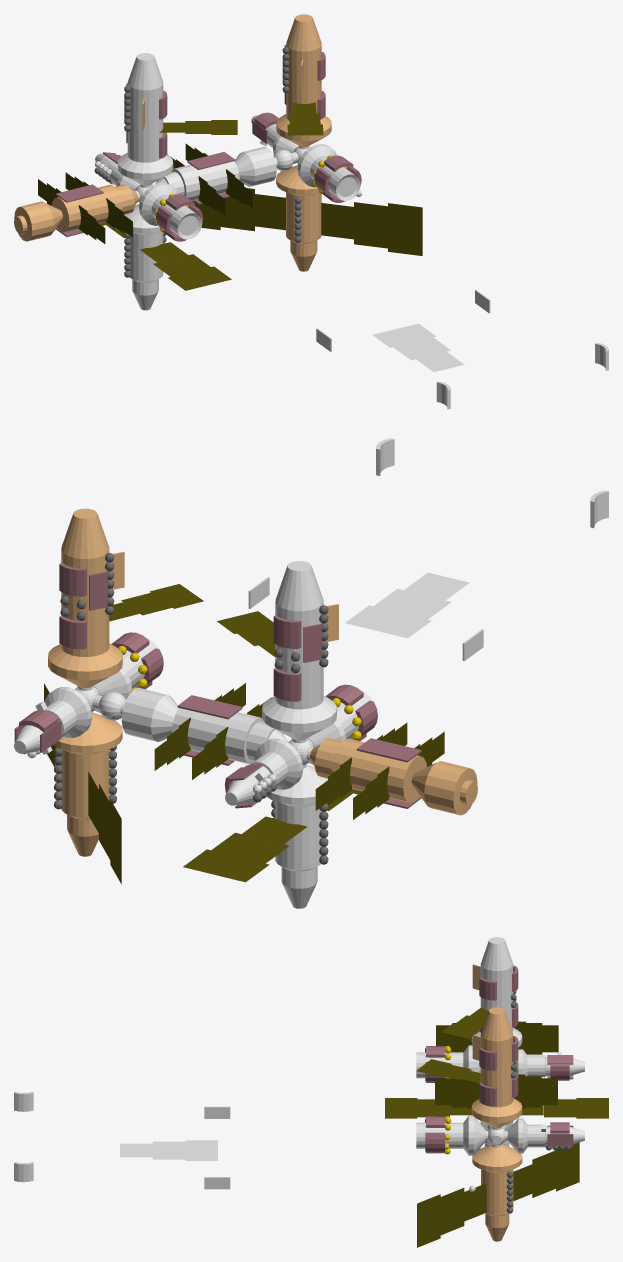
File: spacestationlevel7 - Copia.fbx
3 views of the same model, one above another, from view 1: azimuth 30°, elevation 25°; view 2: azimuth 150°, elevation 25°; view 3: azimuth 270°, elevation 25° (orthographic). The views are drawn at different scales.
Parts seen in each view (by area): view 1: Pedaço da estação básico, Painel solar.010, Pedaço da estação básico.001, Modulo principal.001, Modulo principal, Pedaço da estação básico.007, Painel solar.009, Pedaço da estação básico.2, Painel solar, Painel solar.005, Pedaço da estação básico.005, Pedaço da estação básico.4 (+10 smaller); view 2: Modulo principal.001, Pedaço da estação básico, Pedaço da estação básico.001, Modulo principal, Pedaço da estação básico.007, Pedaço da estação básico.2, Painel solar, Painel solar.003, Pedaço da estação básico.3, Pedaço da estação básico.006, Painel solar.009, Painel solar.008 (+16 smaller); view 3: Pedaço da estação básico.001, Pedaço da estação básico.007, Painel solar.010, Painel solar.009, Pedaço da estação básico, Painel solar, Painel solar.004, Pedaço da estação básico.005, Painel solar.003, Painel solar.005, Pedaço da estação básico.006, Painel solar.006 (+8 smaller).
Boxes of the visible parts, x1,y1,x2,y2 form: Pedaço da estação básico: [118, 53, 173, 185]; Painel solar.010: [321, 202, 422, 255]; Pedaço da estação básico.001: [276, 14, 331, 146]; Modulo principal.001: [14, 184, 138, 241]; Modulo principal: [155, 146, 276, 200]; Pedaço da estação básico.007: [276, 165, 321, 271]; Painel solar.009: [192, 188, 285, 231]; Pedaço da estação básico.2: [124, 204, 163, 310]; Painel solar: [372, 323, 464, 372]; Painel solar.005: [140, 242, 231, 290]; Pedaço da estação básico.005: [297, 144, 360, 200]; Pedaço da estação básico.4: [139, 182, 202, 239]; Modulo principal.001: [310, 738, 477, 815]; Pedaço da estação básico: [262, 561, 336, 740]; Pedaço da estação básico.001: [48, 508, 122, 687]; Modulo principal: [121, 687, 287, 764]; Pedaço da estação básico.007: [53, 712, 122, 856]; Pedaço da estação básico.2: [266, 765, 327, 908]; Painel solar: [345, 572, 469, 638]; Painel solar.003: [183, 816, 307, 882]; Pedaço da estação básico.3: [225, 738, 303, 805]; Pedaço da estação básico.006: [14, 687, 92, 753]; Painel solar.009: [88, 771, 121, 884]; Painel solar.008: [109, 584, 203, 621]; Pedaço da estação básico.001: [471, 1007, 522, 1128]; Pedaço da estação básico.007: [472, 1144, 522, 1241]; Painel solar.010: [417, 1183, 486, 1247]; Painel solar.009: [513, 1142, 579, 1201]; Pedaço da estação básico: [471, 937, 522, 1047]; Painel solar: [120, 1140, 217, 1160]; Painel solar.004: [435, 1087, 557, 1108]; Pedaço da estação básico.005: [416, 1115, 485, 1155]; Painel solar.003: [521, 1098, 608, 1118]; Painel solar.005: [385, 1098, 472, 1118]; Pedaço da estação básico.006: [507, 1118, 584, 1153]; Painel solar.006: [436, 1034, 558, 1054].
Size of the model in its own units: 11607 by 7740 by 18240.
